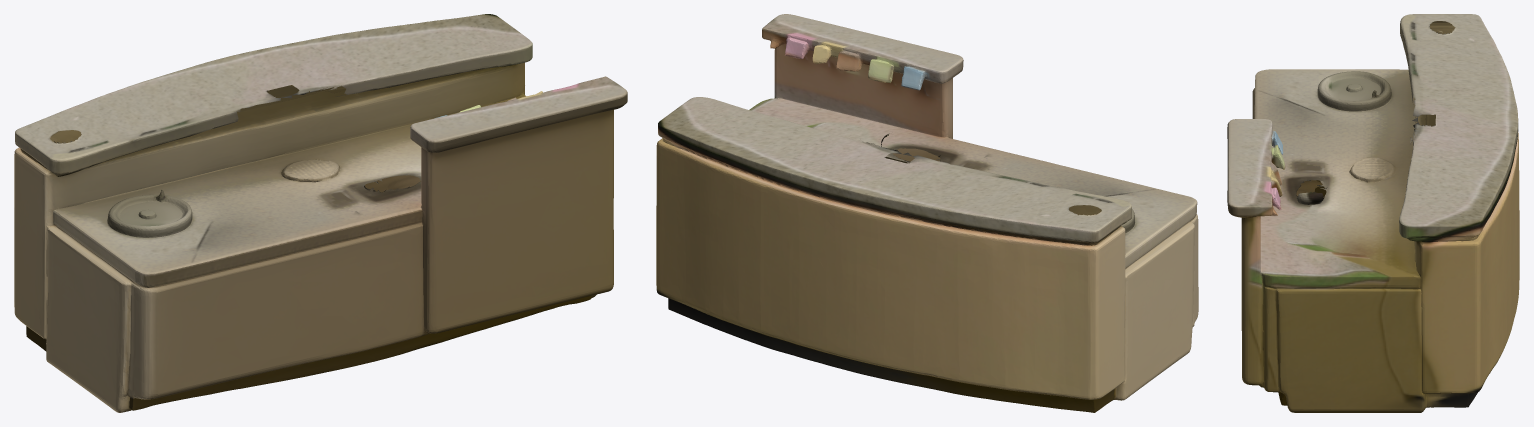
The model's file is reception_desk.glb.
The picture shows the model from 3 angles, left to right: view 1: azimuth 30°, elevation 25°; view 2: azimuth 150°, elevation 25°; view 3: azimuth 270°, elevation 25°; orthographic projection. The views are drawn at different scales.
Visible parts, largest first — view 1: geometry_0; view 2: geometry_0; view 3: geometry_0.
Boxes of the visible parts, x1,y1,x2,y2 form: geometry_0: [14, 14, 627, 412]; geometry_0: [656, 14, 1198, 412]; geometry_0: [1227, 14, 1519, 412].
Size of the model in its own units: 1 by 0.4577 by 0.5811.
1 material, 1 textured.
